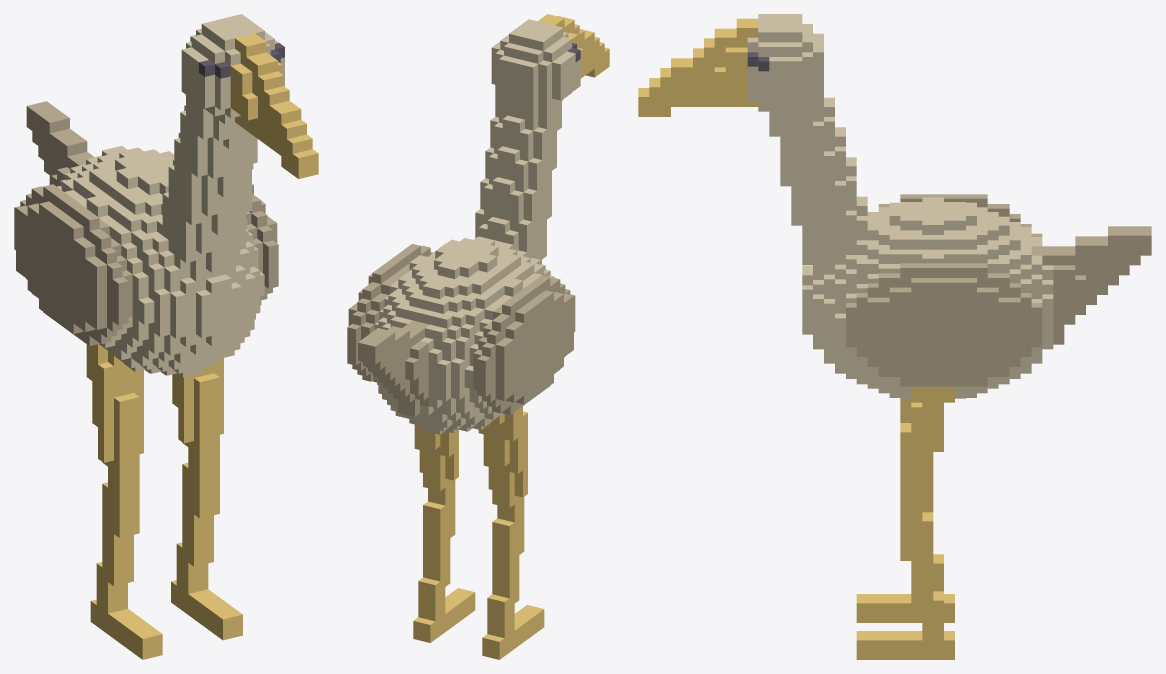
File: axe_beak.glb
The picture shows the model from 3 angles, left to right: view 1: azimuth 30°, elevation 25°; view 2: azimuth 150°, elevation 25°; view 3: azimuth 270°, elevation 25°; orthographic projection. The views are drawn at different scales.
Visible parts, largest first — view 1: item; view 2: item; view 3: item.
Boxes of the visible parts, x1,y1,x2,y2 form: item: (14,14,318,659); item: (347,14,609,659); item: (638,14,1151,659).
Bounding box in the file's own units: 18 × 62 × 47.
